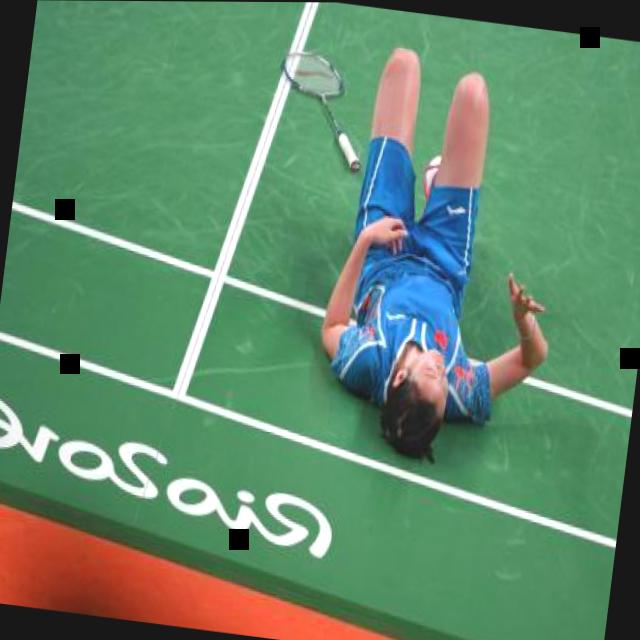Fall-Detected: (291, 27, 596, 469)
